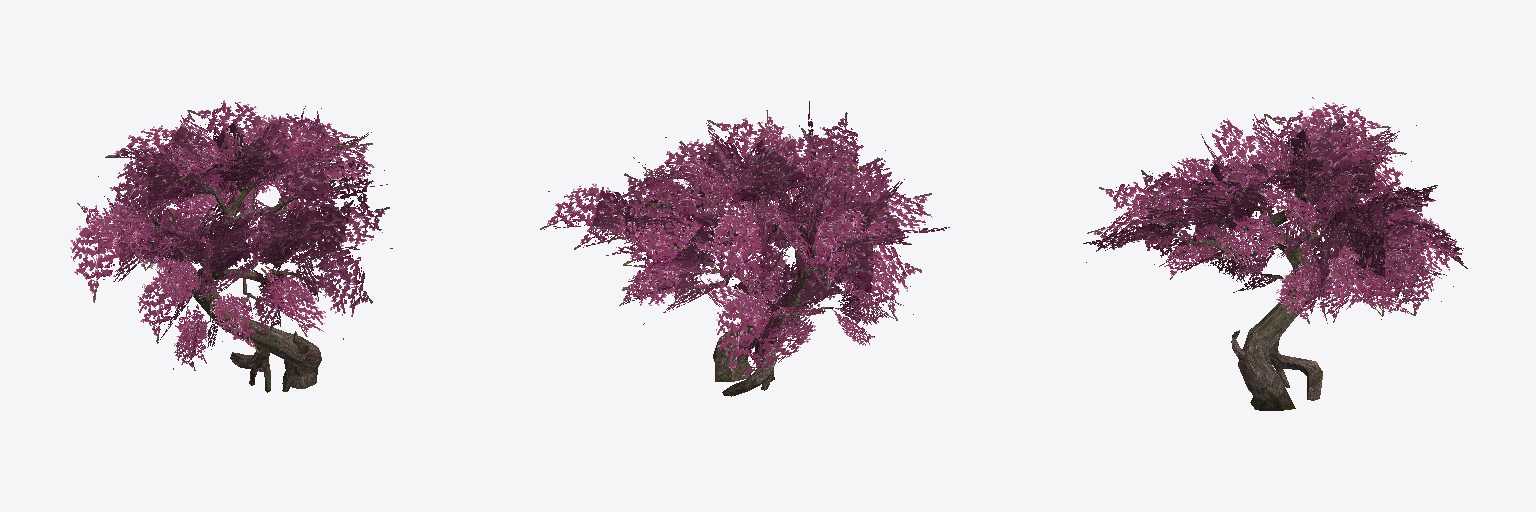
3 views of the same model, side by side, from view 1: azimuth 30°, elevation 25°; view 2: azimuth 150°, elevation 25°; view 3: azimuth 270°, elevation 25° (orthographic).
Parts seen in each view (by area): view 1: DrawCall_1049; view 2: DrawCall_1049; view 3: DrawCall_1049.
Part boxes in pixels (left/top/right/bottom): DrawCall_1049: left=70, top=100, right=392, bottom=392; DrawCall_1049: left=540, top=101, right=949, bottom=396; DrawCall_1049: left=1083, top=97, right=1467, bottom=410.
Bounding box in the file's own units: 16.67 × 12.06 × 16.44.
Materials: 1 (1 with a texture image).